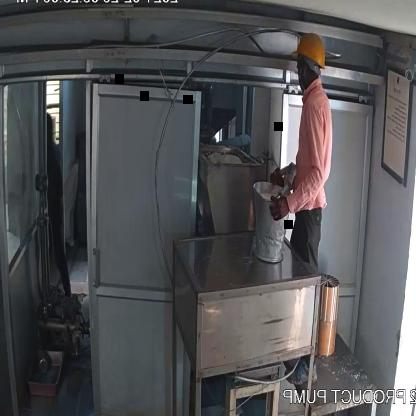helmet: (290, 27, 332, 70)
